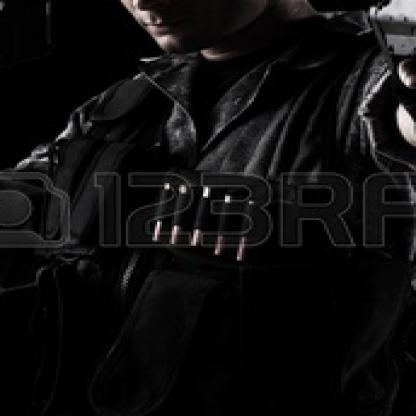gun: (358, 0, 414, 124)
